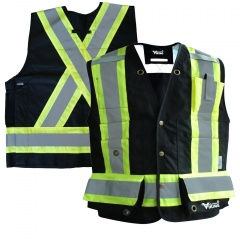safety vest: (94, 45, 226, 219), (12, 7, 143, 168)
